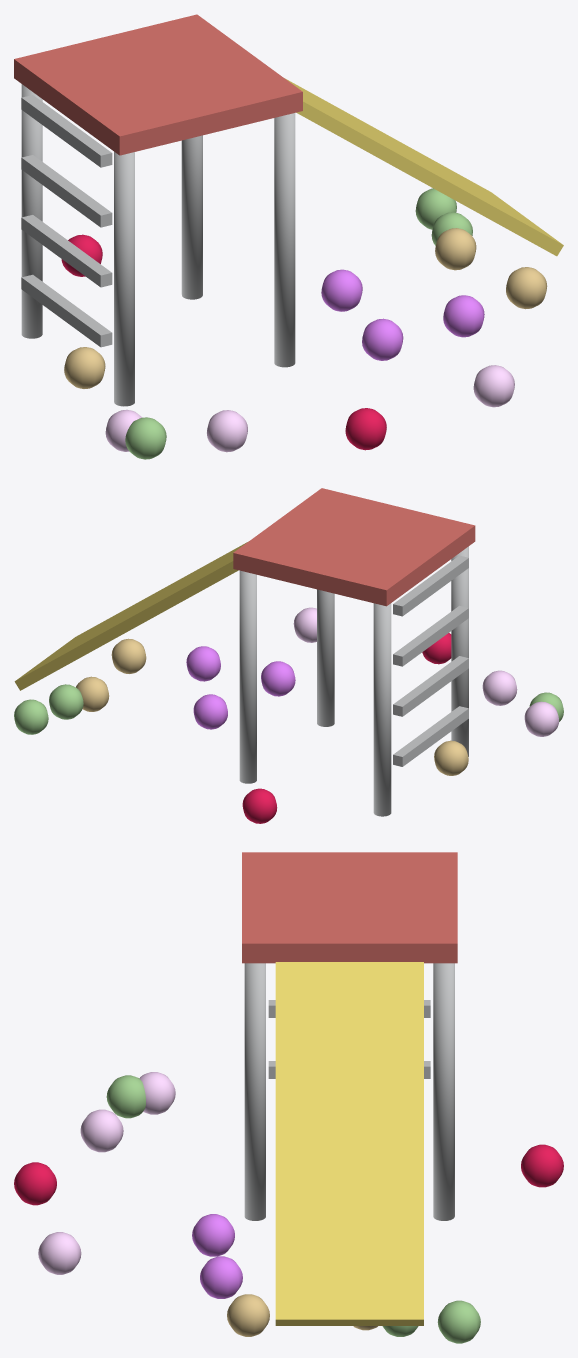
File: play_slide.glb
3 renders of one model, top to bottom at view 1: azimuth 30°, elevation 25°; view 2: azimuth 150°, elevation 25°; view 3: azimuth 270°, elevation 25°, orthographic. The views are drawn at different scales.
Parts seen in each view (by area): view 1: metal, box, box.001, ball_1, ball_3, ball_2, ball_0, ball_4; view 2: metal, box, box.001, ball_1, ball_3, ball_2, ball_0, ball_4; view 3: box.001, box, metal, ball_2, ball_0, ball_4, ball_1, ball_3.
Boxes of the visible parts, <box> form: metal: <box>21,84,295,406</box>; box: <box>14,14,302,155</box>; box.001: <box>284,78,563,256</box>; ball_1: <box>321,269,484,360</box>; ball_3: <box>64,228,547,388</box>; ball_2: <box>105,365,514,452</box>; ball_0: <box>125,188,472,459</box>; ball_4: <box>61,234,386,450</box>; metal: <box>239,546,468,816</box>; box: <box>233,488,475,606</box>; box.001: <box>14,542,247,690</box>; ball_1: <box>186,646,295,729</box>; ball_3: <box>76,638,468,775</box>; ball_2: <box>293,607,558,736</box>; ball_0: <box>14,684,563,734</box>; ball_4: <box>242,633,451,823</box>; box.001: <box>275,962,423,1325</box>; box: <box>242,852,457,963</box>; metal: <box>244,963,454,1220</box>; ball_2: <box>38,1072,175,1274</box>; ball_0: <box>106,1075,480,1343</box>; ball_4: <box>14,1144,563,1205</box>; ball_1: <box>192,1214,242,1298</box>; ball_3: <box>227,1294,377,1336</box>.
Bounding box in the file's own units: 2.25 × 1.14 × 2.04.
